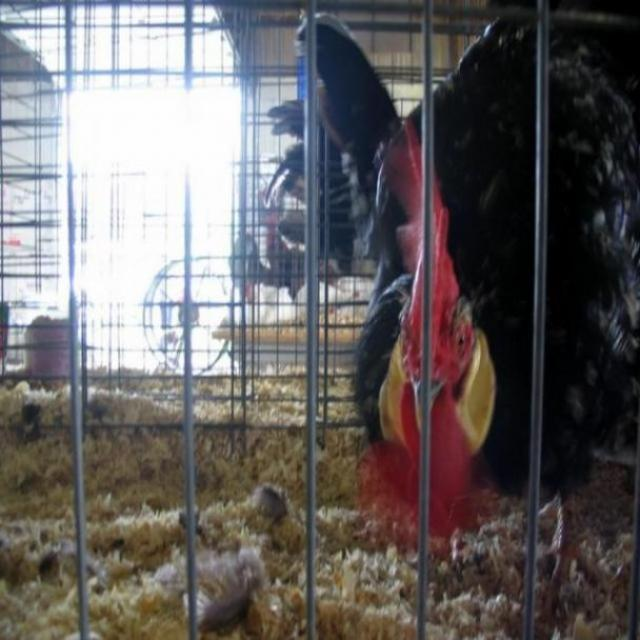Chicken: (364, 128, 639, 545)
